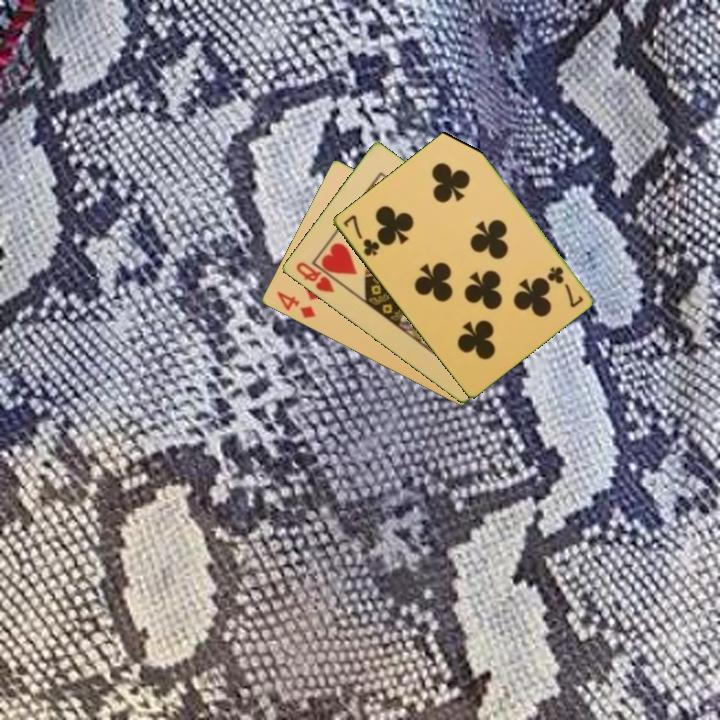4d: (272, 288, 318, 321)
7c: (339, 211, 383, 259), (544, 263, 586, 310)
Qh: (292, 258, 337, 296)
